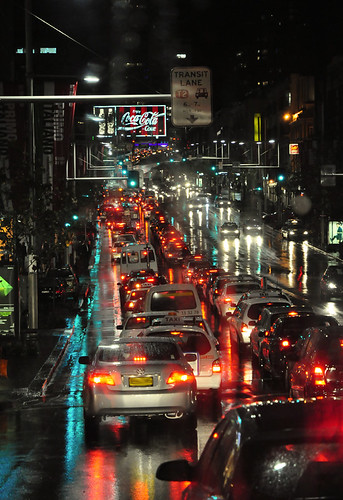car: (86, 337, 203, 429), (143, 322, 225, 395), (272, 316, 326, 378), (236, 293, 293, 342), (243, 216, 266, 233), (220, 222, 242, 238)
sign: (168, 64, 216, 128), (113, 105, 170, 142)
street: (31, 198, 343, 500)
